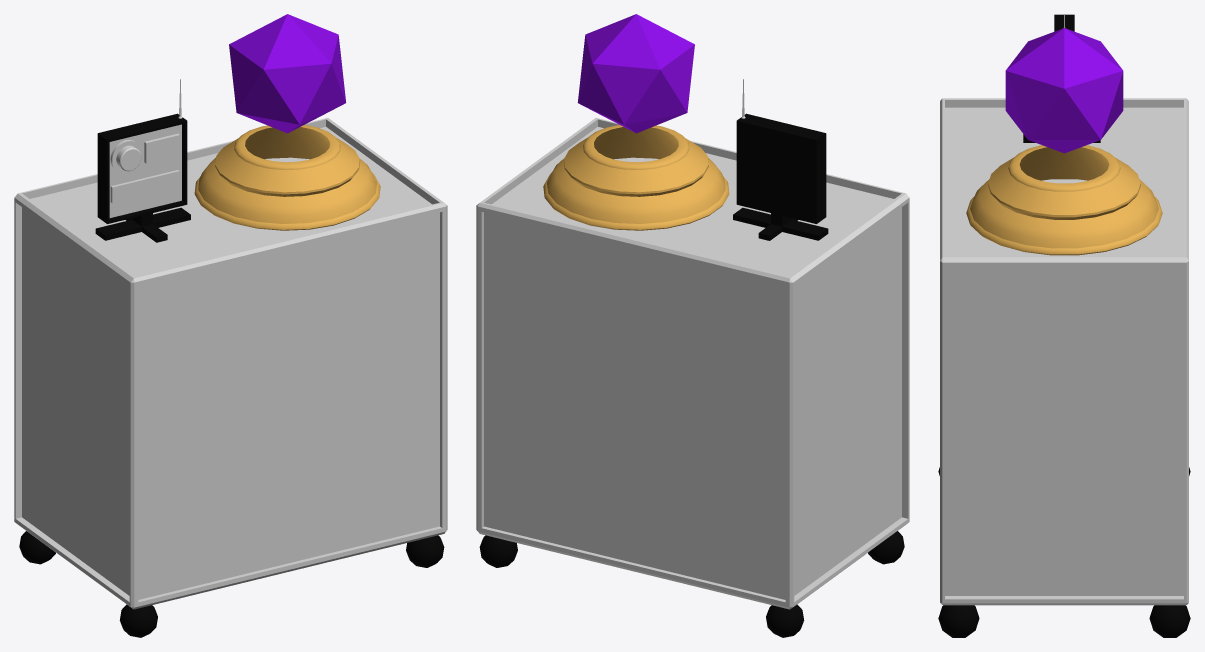
Rendered from MagicCart.fbx.
The picture shows the model from 3 angles, left to right: view 1: azimuth 30°, elevation 25°; view 2: azimuth 150°, elevation 25°; view 3: azimuth 270°, elevation 25°; orthographic projection. The views are drawn at different scales.
Parts seen in each view (by area): view 1: MagicCart, MagicCrystal, Knob; view 2: MagicCart, MagicCrystal; view 3: MagicCart, MagicCrystal.
Part boxes in pixels (x1=…): MagicCart: x1=14, y1=79, x2=447, y2=637; MagicCrystal: x1=229, y1=14, x2=346, y2=133; Knob: x1=110, y1=139, x2=141, y2=173; MagicCart: x1=476, y1=79, x2=909, y2=637; MagicCrystal: x1=577, y1=14, x2=694, y2=133; MagicCart: x1=938, y1=14, x2=1190, y2=637; MagicCrystal: x1=1005, y1=28, x2=1123, y2=153.
Size of the model in its own units: 90.54 by 146 by 59.11.
